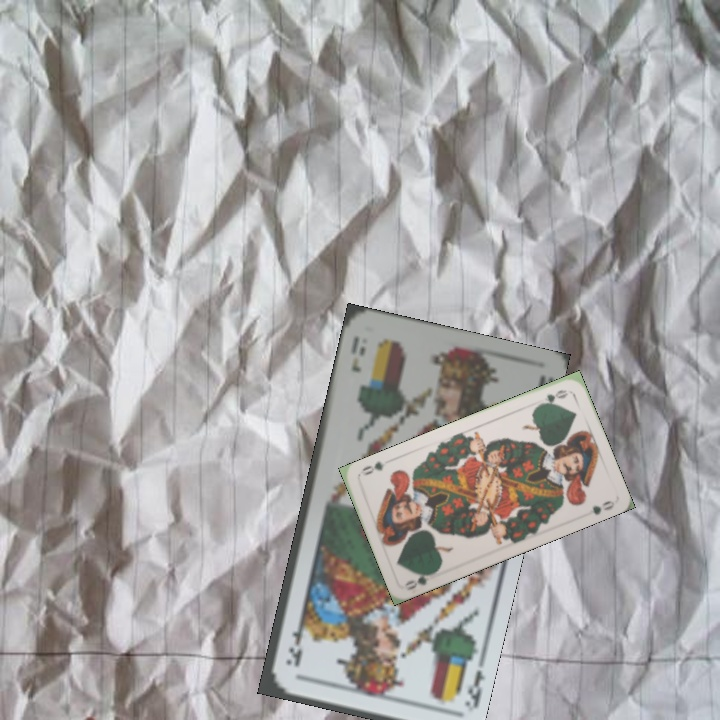EK: (463, 666, 487, 712), (346, 331, 369, 375)
GO: (401, 564, 442, 592), (533, 385, 571, 410)
